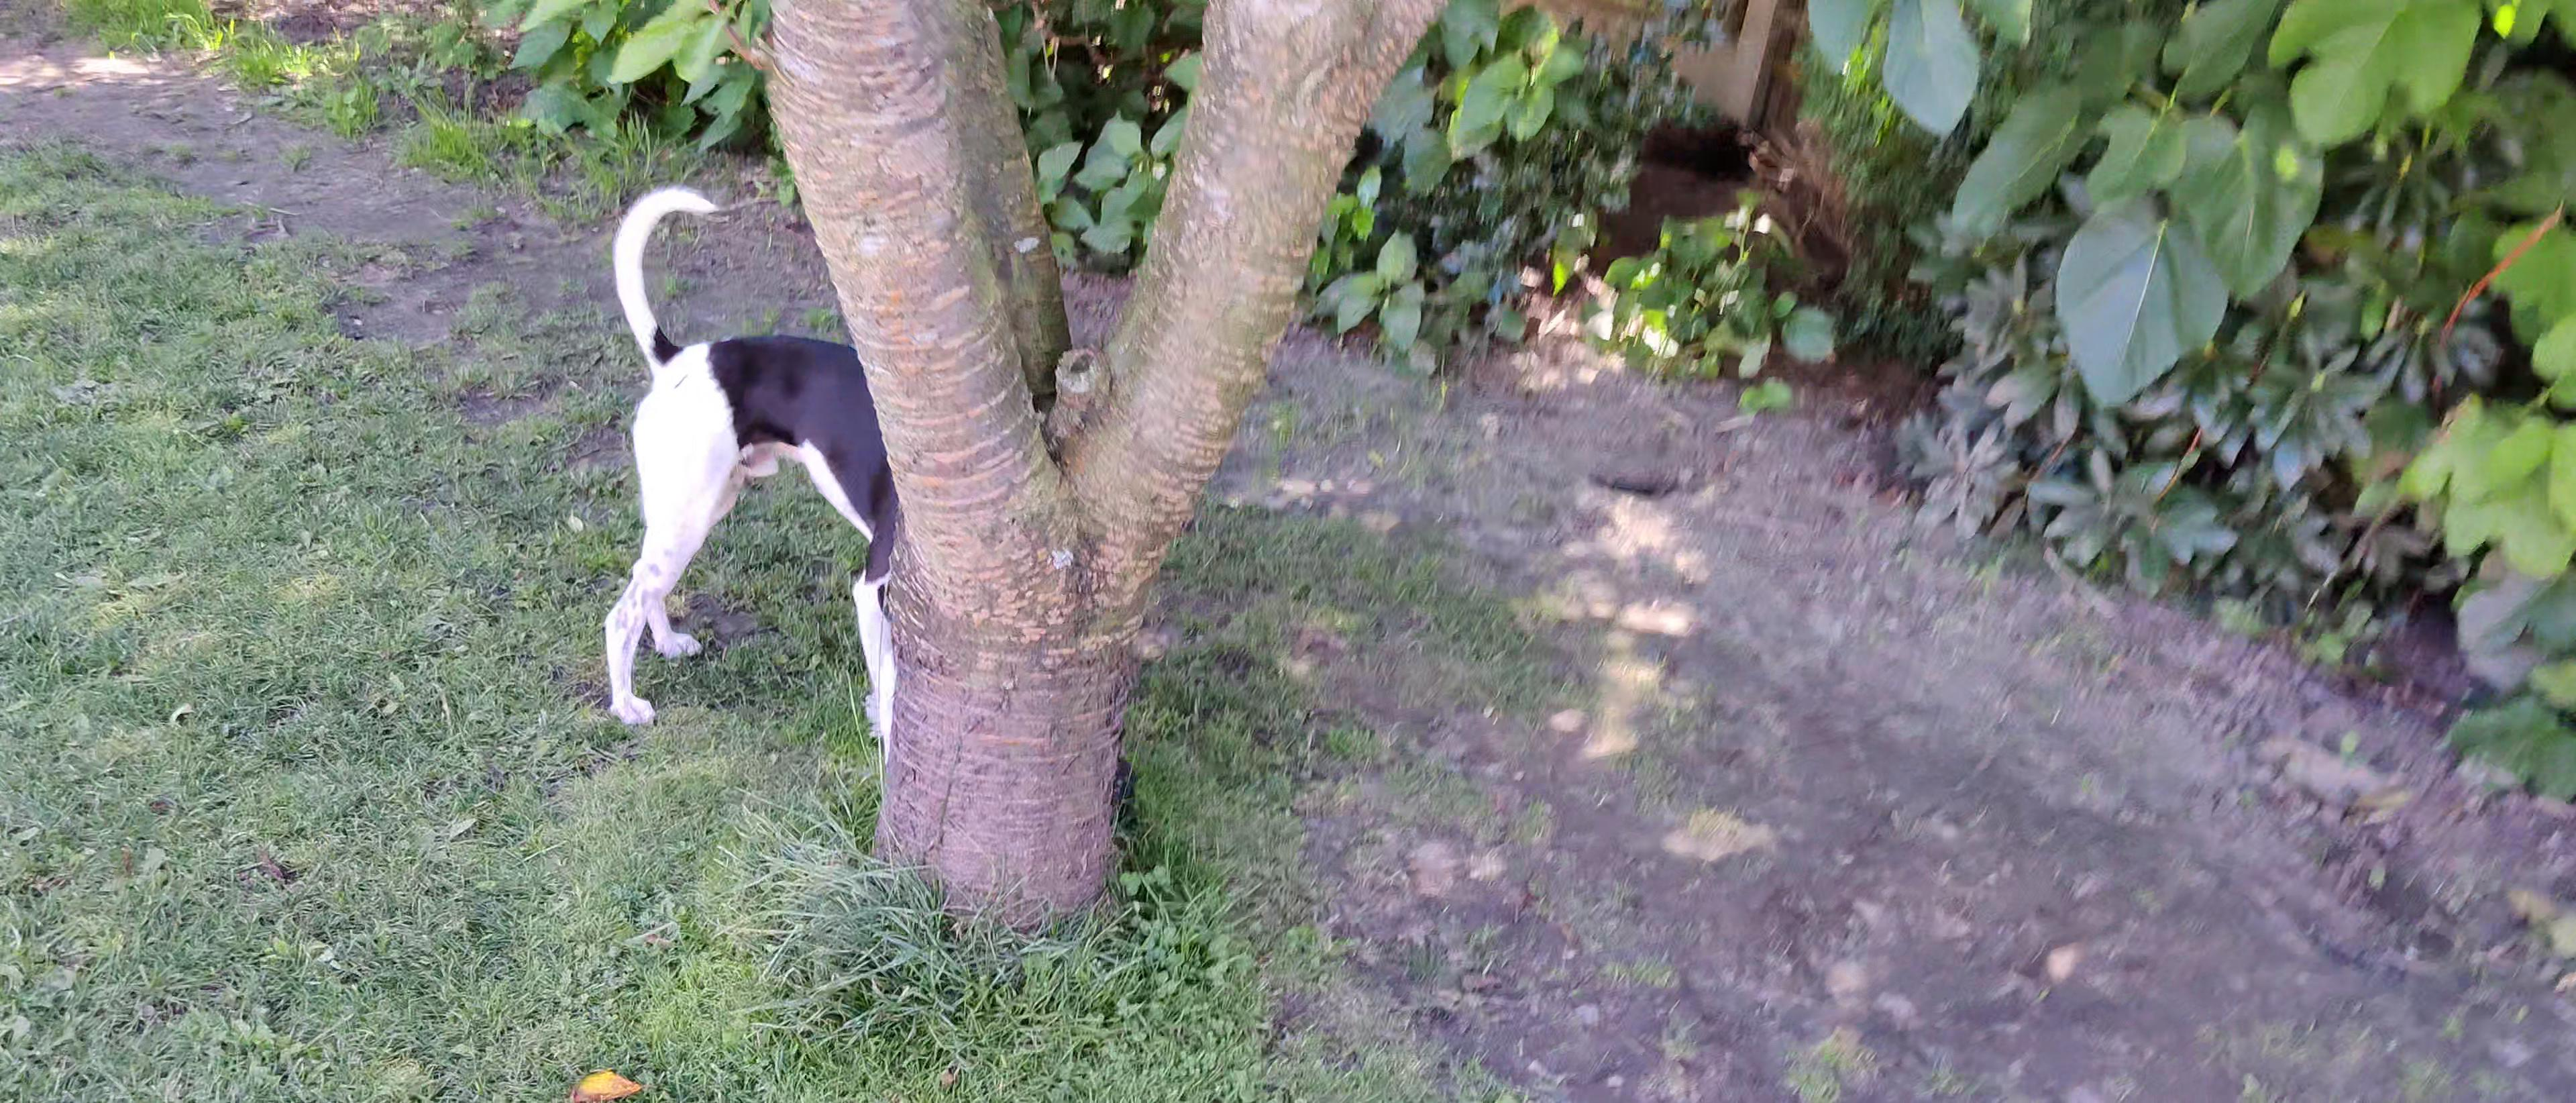Dog: (585, 179, 1148, 812)
